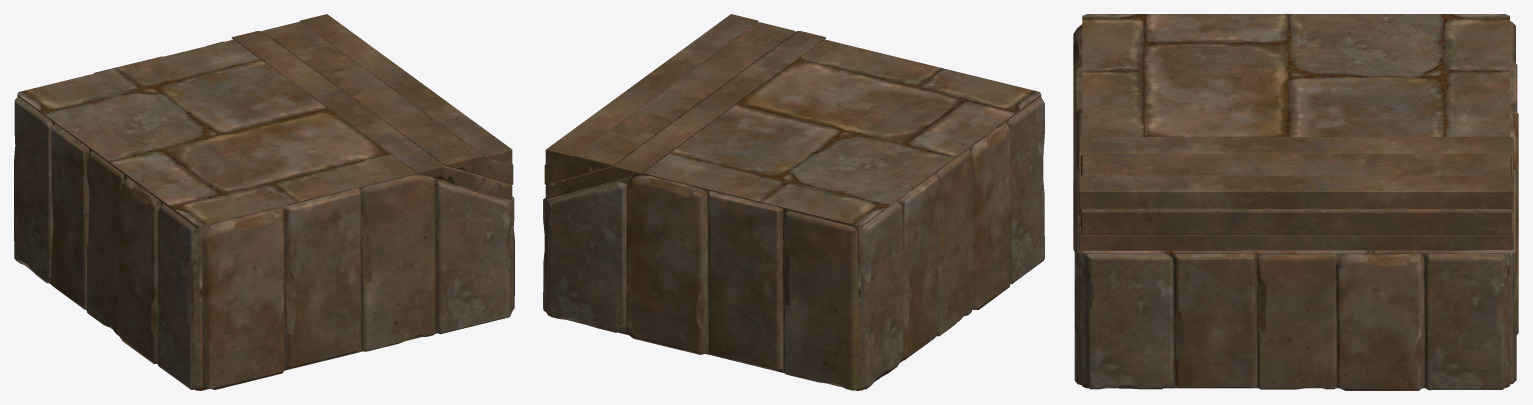
3 renders of one model, left to right at view 1: azimuth 30°, elevation 25°; view 2: azimuth 150°, elevation 25°; view 3: azimuth 270°, elevation 25°, orthographic. The views are drawn at different scales.
Parts seen in each view (by area): view 1: SM_Vault_4m_Stairs_Base_01_LOD0; view 2: SM_Vault_4m_Stairs_Base_01_LOD0; view 3: SM_Vault_4m_Stairs_Base_01_LOD0.
Part boxes in pixels (box(x1,y1,x2,y2)): SM_Vault_4m_Stairs_Base_01_LOD0: box(14, 14, 514, 390); SM_Vault_4m_Stairs_Base_01_LOD0: box(543, 14, 1044, 390); SM_Vault_4m_Stairs_Base_01_LOD0: box(1073, 14, 1518, 390).
Size of the model in its own units: 4.17 by 2.02 by 4.17.
2 materials, 2 textured.
